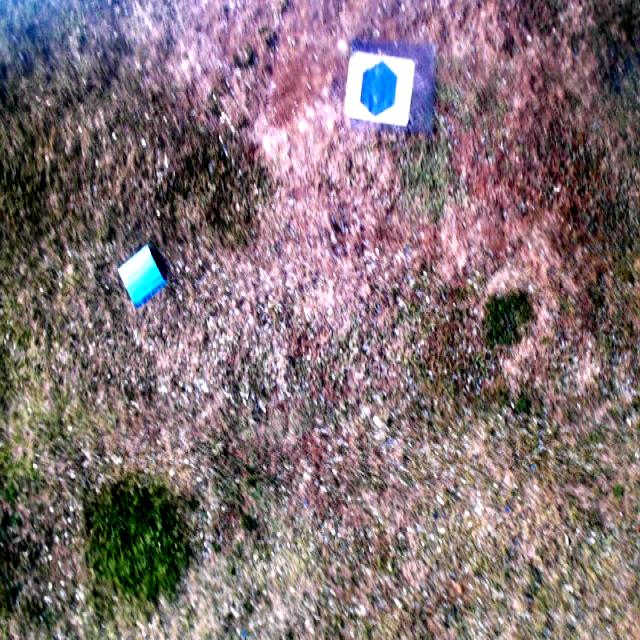blue_hexagon: (360, 59, 398, 119)
blue_square: (119, 244, 166, 307)
